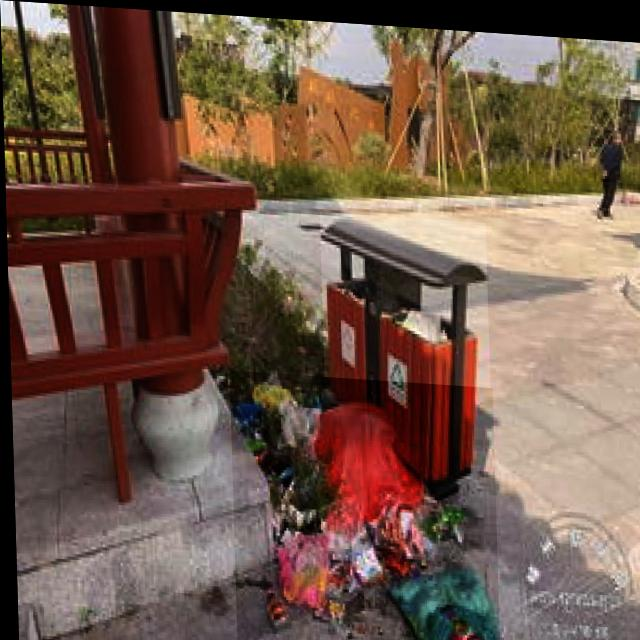garbage: (227, 367, 497, 640)
overflow: (319, 207, 491, 497)
